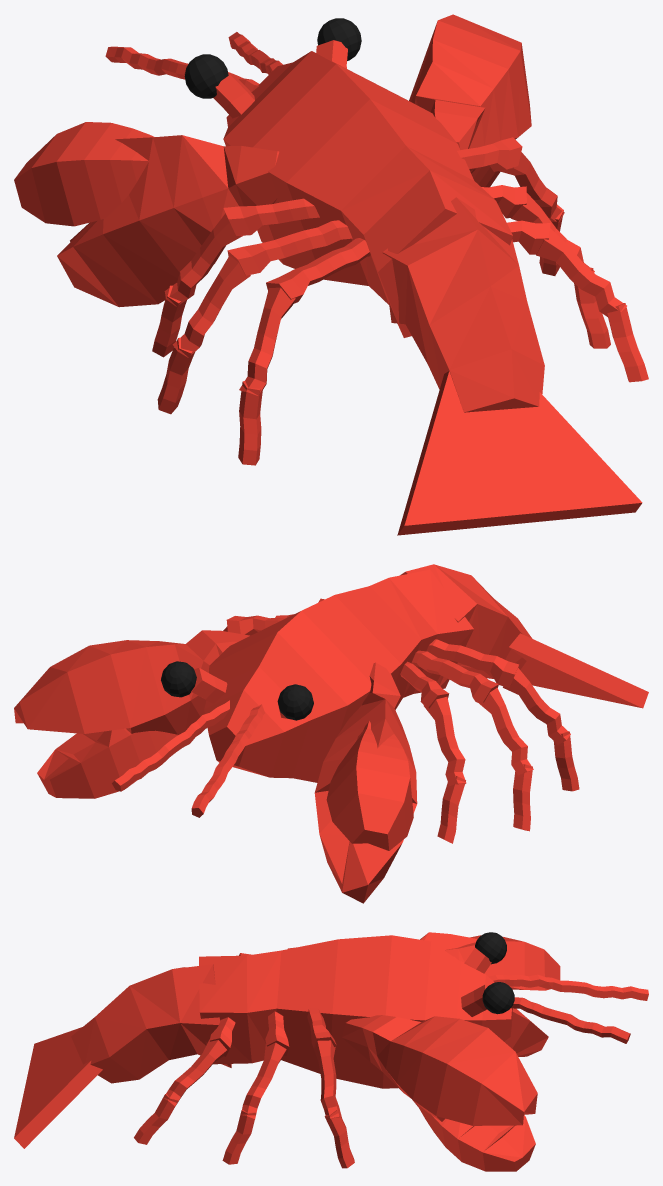
The model's file is JomfruHummer.glb.
3 views of the same model, one above another, from view 1: azimuth 30°, elevation 25°; view 2: azimuth 150°, elevation 25°; view 3: azimuth 270°, elevation 25° (orthographic). The views are drawn at different scales.
Visible parts, largest first — view 1: group1028411343; view 2: group1028411343; view 3: group1028411343.
Part boxes in pixels (left/top/right/bottom): group1028411343: left=14, top=14, right=648, bottom=535; group1028411343: left=14, top=564, right=648, bottom=903; group1028411343: left=14, top=932, right=648, bottom=1171.
Size of the model in its own units: 0.504 by 0.2684 by 0.7805.
